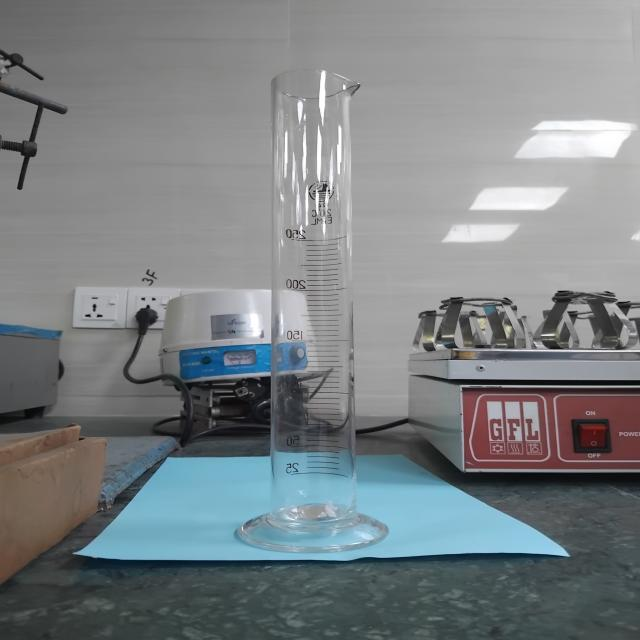Measuring_Cylinder: (240, 44, 397, 566)
